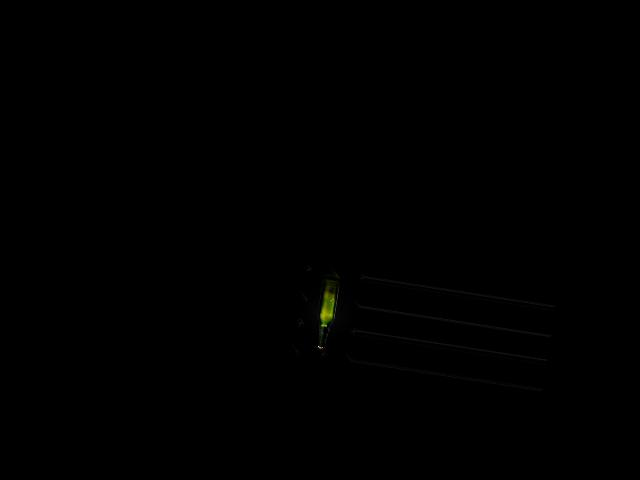beer: (313, 276, 341, 350)
